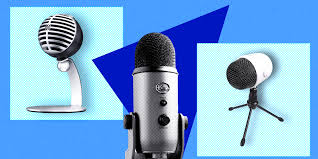microphone: (131, 31, 180, 159), (25, 13, 87, 113), (225, 52, 287, 147)
